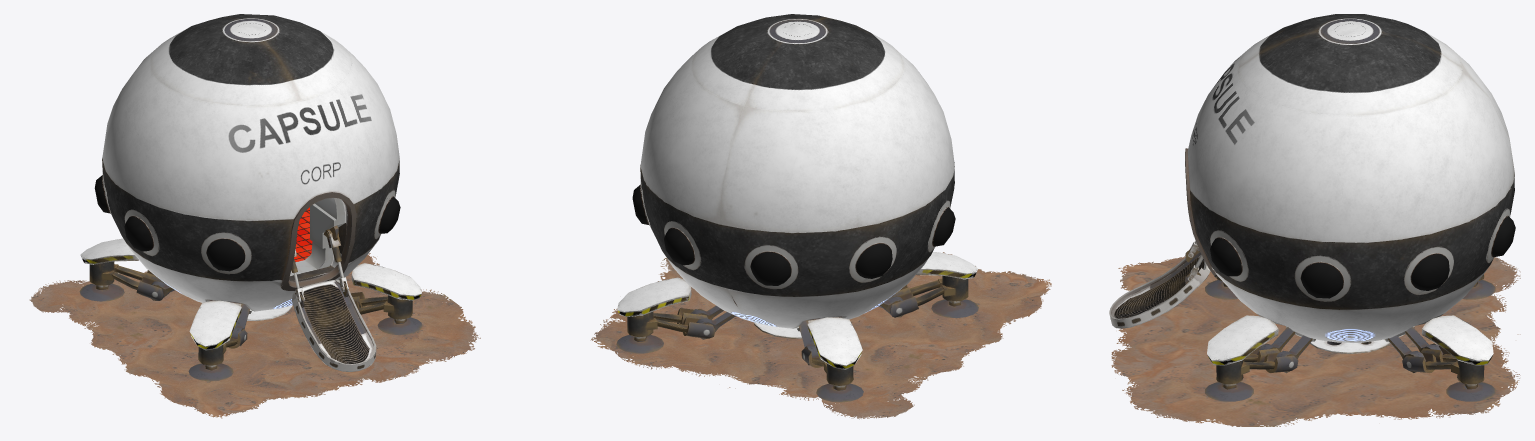
File: capsule_corp_adc950.fbx
3 renders of one model, left to right at view 1: azimuth 30°, elevation 25°; view 2: azimuth 150°, elevation 25°; view 3: azimuth 270°, elevation 25°, orthographic. The views are drawn at different scales.
Visible parts, largest first — view 1: capsule_corp_adc950; view 2: capsule_corp_adc950; view 3: capsule_corp_adc950.
Boxes of the visible parts, bbox=[...] form: capsule_corp_adc950: bbox=[29, 14, 480, 418]; capsule_corp_adc950: bbox=[590, 14, 1051, 419]; capsule_corp_adc950: bbox=[1109, 14, 1520, 426].
Size of the model in its own units: 19.88 by 16.7 by 20.
3 materials, 3 textured.
